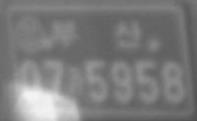0: (15, 58, 43, 104)
5: (133, 58, 160, 106), (84, 58, 110, 103)
7: (43, 58, 65, 105)
8: (160, 59, 186, 104)
9: (110, 59, 134, 106)
가: (66, 62, 84, 99)
부산_D: (49, 15, 143, 50)
영: (12, 13, 48, 55)
